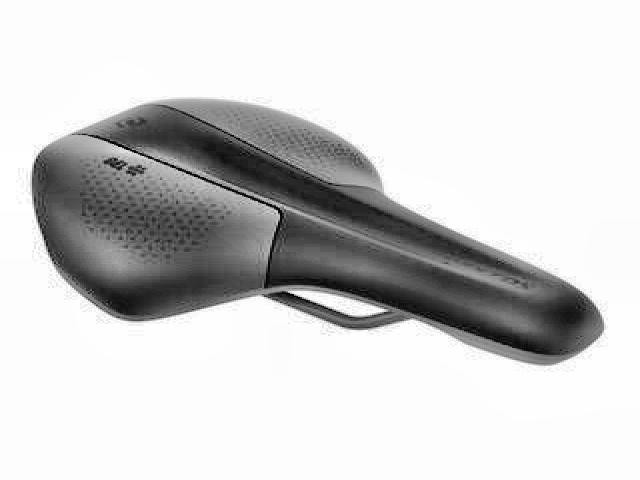saddle: (26, 92, 606, 371)
